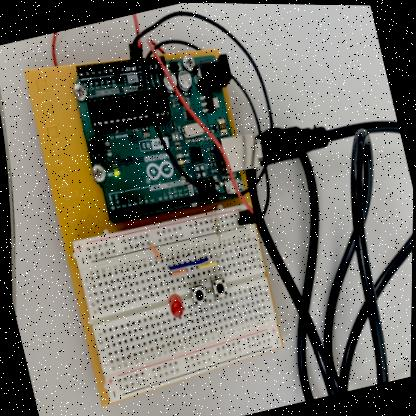5V: (146, 34, 262, 218), (43, 12, 146, 65)
ARDUINO: (69, 49, 250, 224)
Breadboard: (71, 201, 287, 404)
Button: (212, 276, 229, 298), (192, 284, 208, 305)
GND: (132, 7, 281, 169), (135, 38, 267, 198)
LED: (169, 293, 185, 317)
Long wire: (169, 256, 210, 270)
Resistor: (214, 210, 222, 236)
Short wire: (150, 243, 162, 259), (200, 261, 218, 268), (173, 268, 187, 275)
